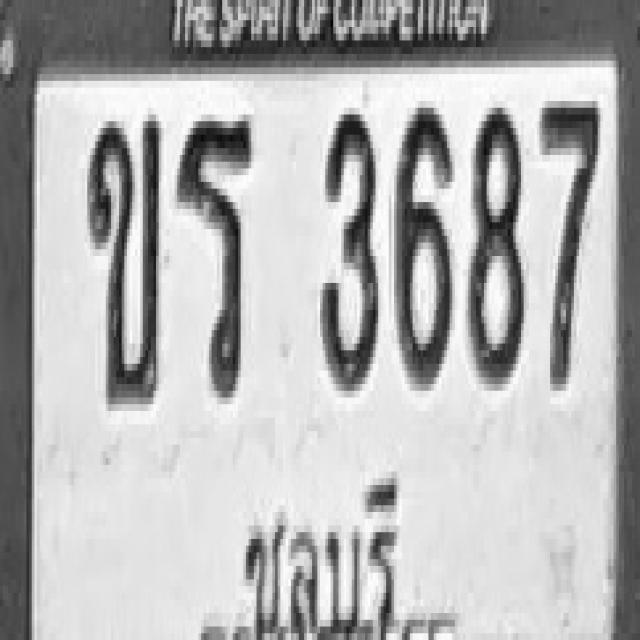11KhorKhai: (86, 115, 160, 404)
3: (320, 105, 378, 388)
44RorRuea: (176, 115, 252, 398)
6: (395, 101, 451, 384)
7: (540, 94, 598, 384)
8: (468, 101, 524, 384)
Chonburi: (238, 465, 408, 640)
